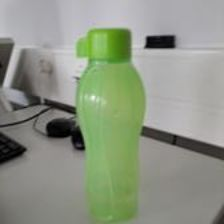bottle: (76, 24, 147, 224)
